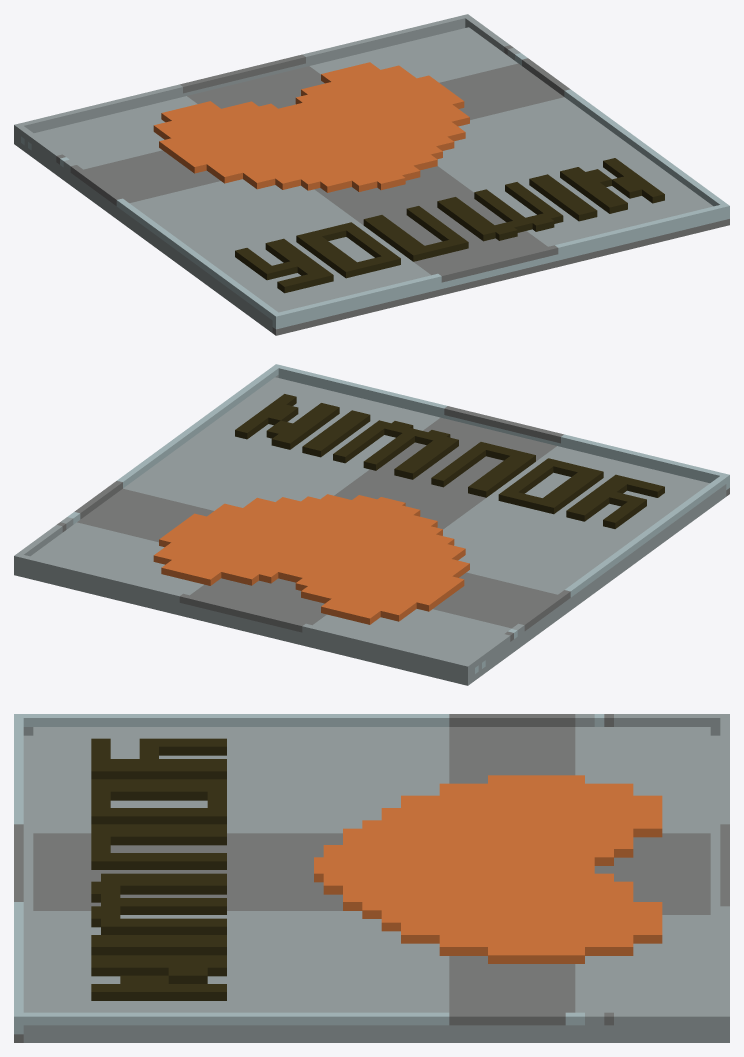
Rendered from box_win.obj.
The picture shows the model from 3 angles, top to bottom: view 1: azimuth 30°, elevation 25°; view 2: azimuth 150°, elevation 25°; view 3: azimuth 270°, elevation 25°; orthographic projection. The views are drawn at different scales.
Size of the model in its own units: 7.4 by 0.3 by 7.4.
1 material, 1 textured.
